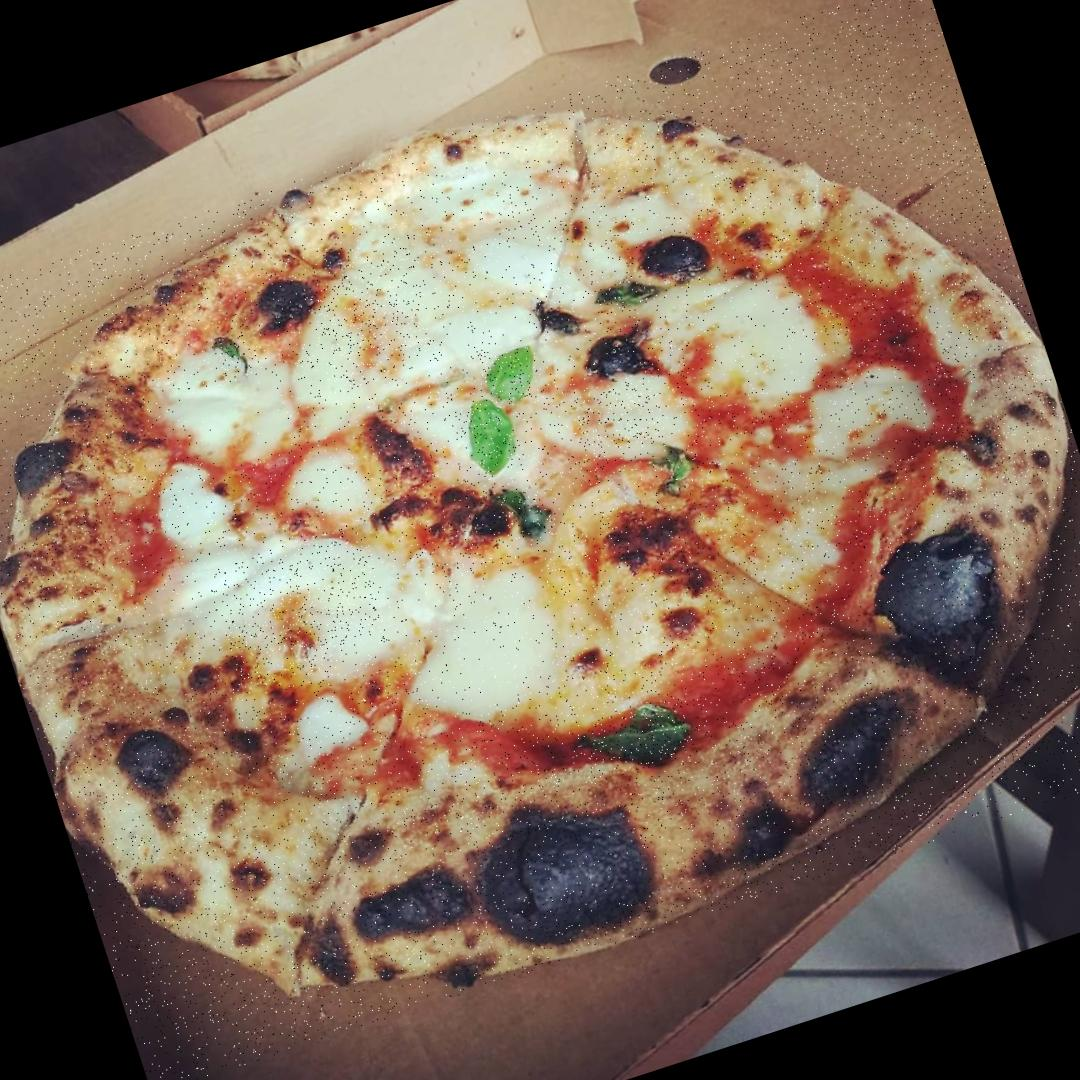Basil: (571, 694, 698, 787), (458, 392, 522, 476), (480, 344, 550, 408), (498, 482, 552, 540), (593, 270, 657, 316), (652, 438, 699, 496), (213, 331, 255, 383)
Cheese: (205, 522, 395, 692), (390, 156, 542, 360), (298, 241, 446, 396), (666, 274, 814, 410), (413, 580, 550, 718), (183, 369, 295, 475), (566, 377, 670, 464)
Pizza: (0, 0, 1080, 1080)
